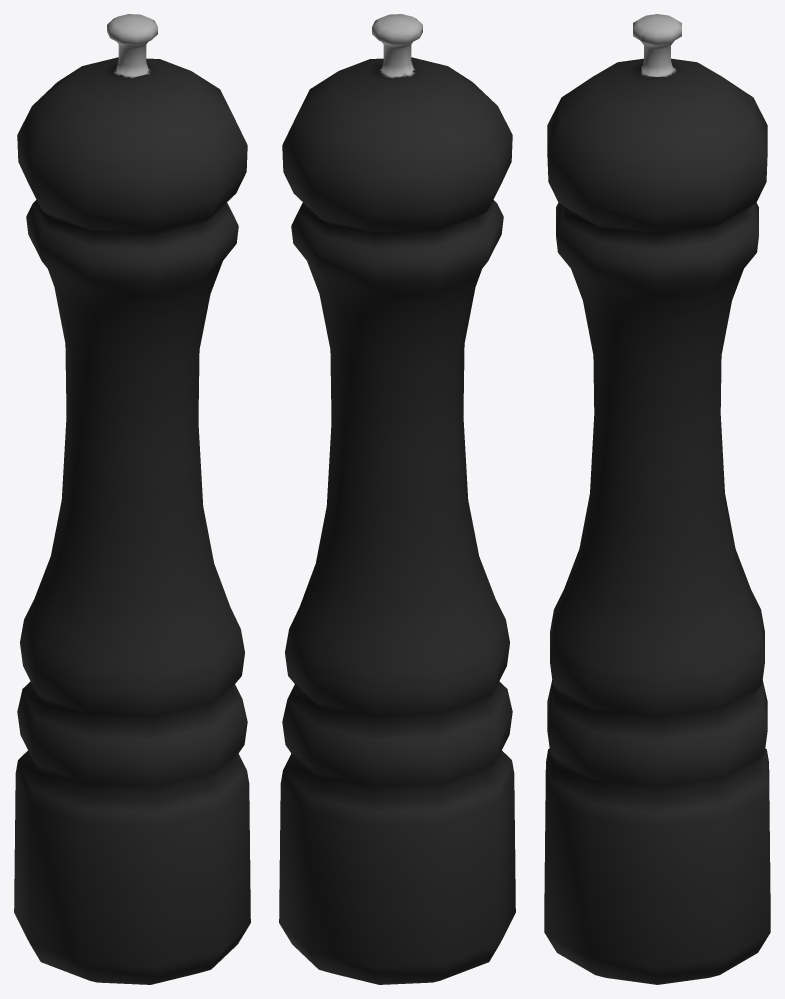
Rendered from PepperShaker.fbx.
3 renders of one model, left to right at view 1: azimuth 30°, elevation 25°; view 2: azimuth 150°, elevation 25°; view 3: azimuth 270°, elevation 25°, orthographic.
Visible parts, largest first — view 1: PepperShaker; view 2: PepperShaker; view 3: PepperShaker.
Boxes of the visible parts, left/top/right/bottom form: PepperShaker: left=14, top=14, right=250, bottom=984; PepperShaker: left=279, top=14, right=515, bottom=984; PepperShaker: left=544, top=14, right=770, bottom=984.
Bounding box in the file's own units: 3.82 × 17.32 × 4.02.
Materials: 1 (1 with a texture image).
